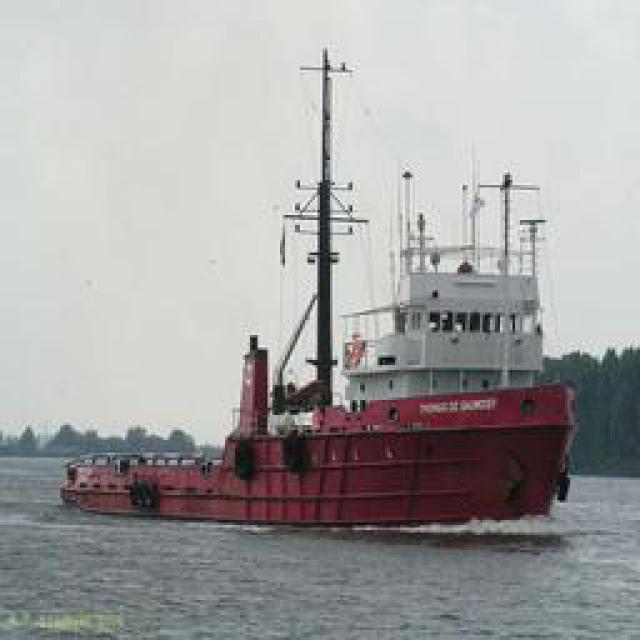Ship: (81, 39, 584, 534)
